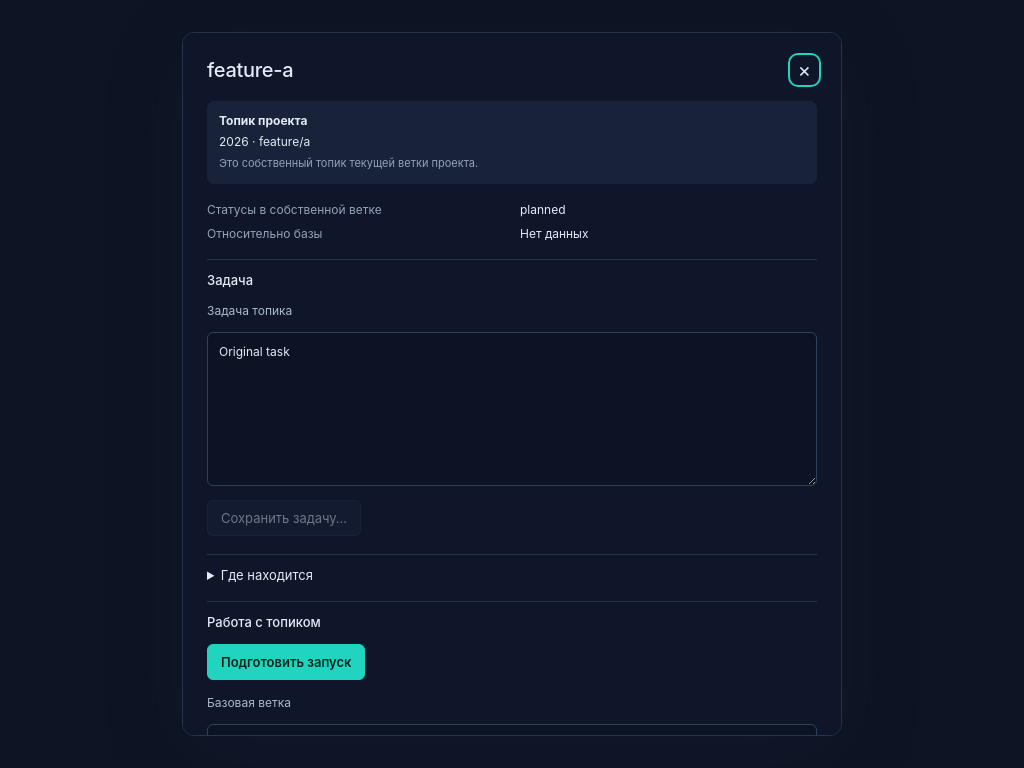
Test: requires explicit execution, consumes once and preserves a draft after failure
Replace the text in the text box labelled "Задача топика" with "Saved only with consent" at coordinates (512, 409), box [207,332,817,486]
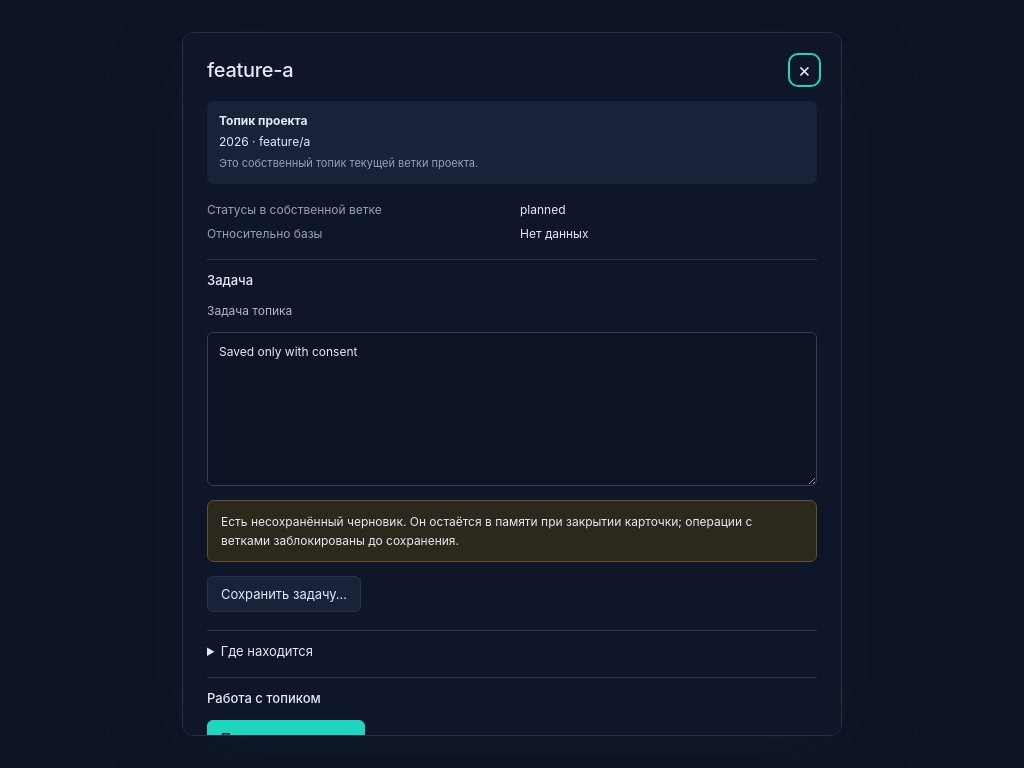
Click the button "Сохранить задачу…" at coordinates (284, 594), box [207,576,361,612]
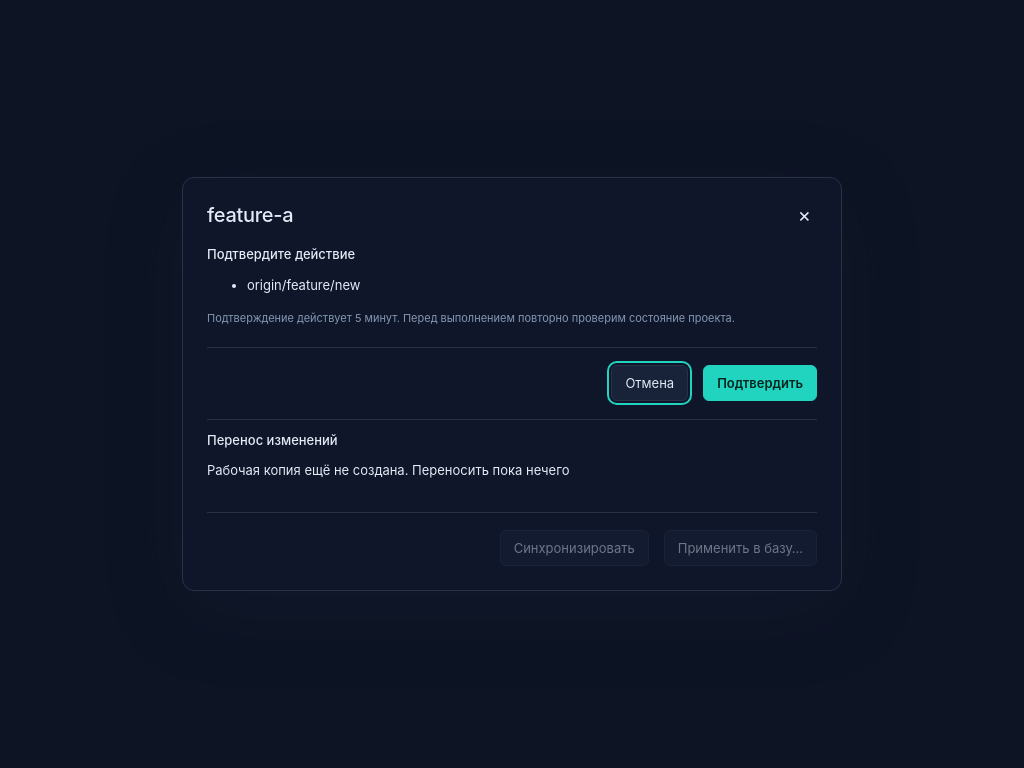
Click the button "Подтвердить" at coordinates (760, 383), box [703,365,817,401]
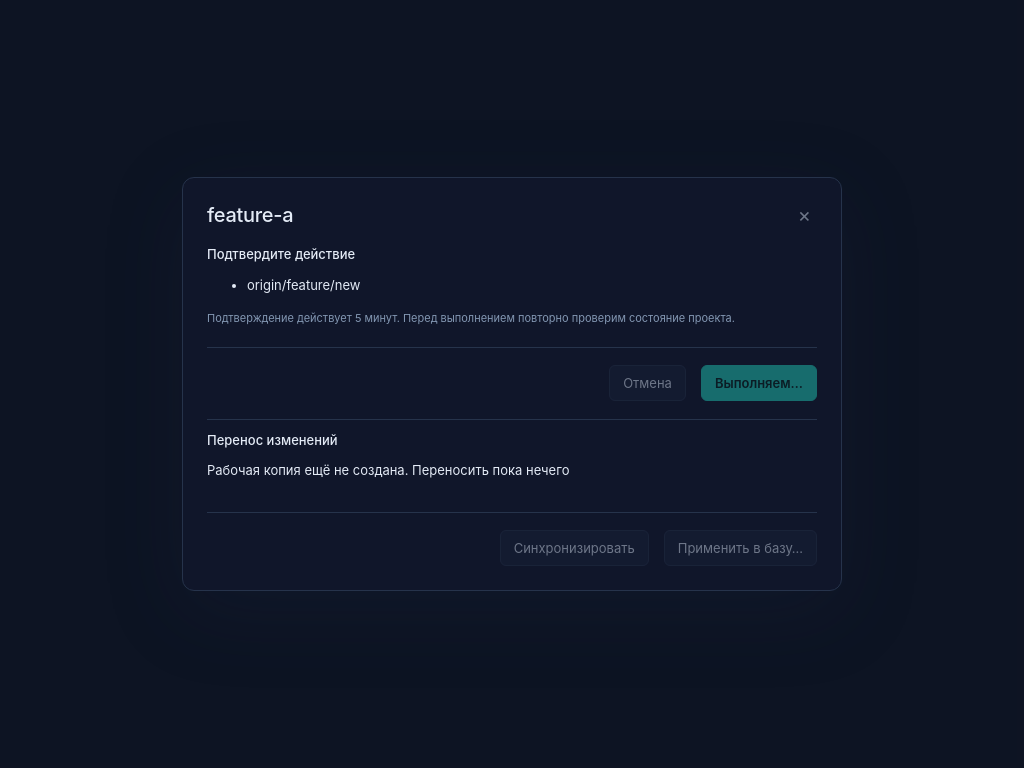
Click the button named "Подтвердить" at coordinates (759, 383), box [701,365,817,401]
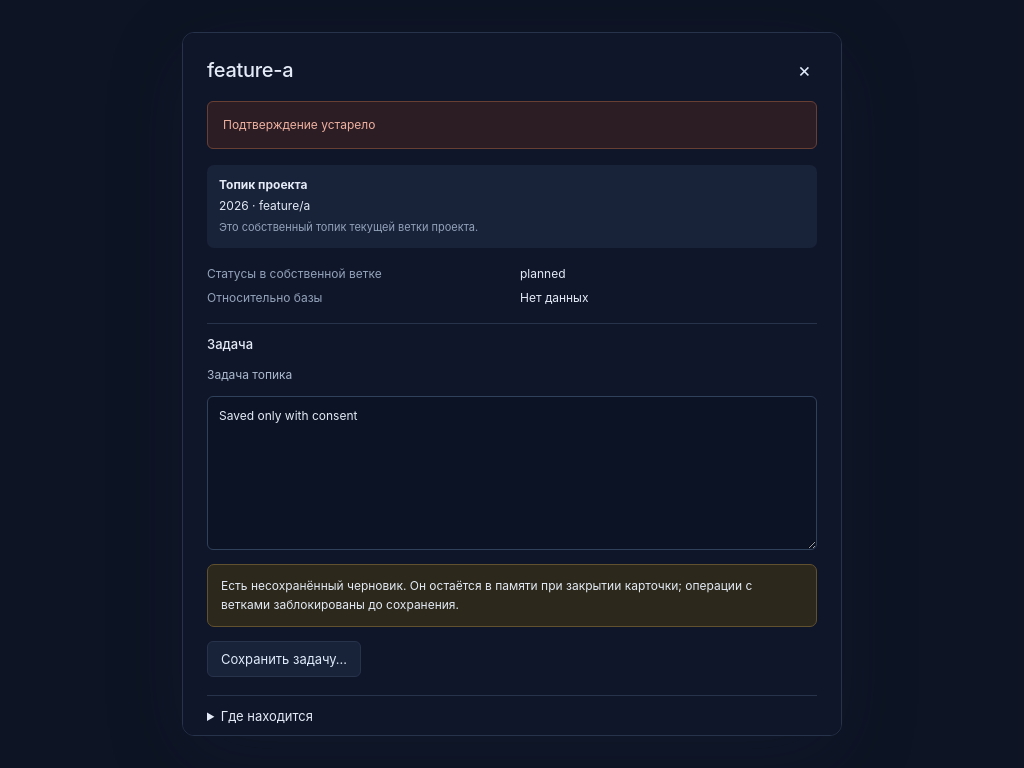
Check: the message reads "Подтверждение устарело", box [223,117,375,132]
Check: the text box labelled "Задача топика" holds "Saved only with consent", box [207,396,817,550]
